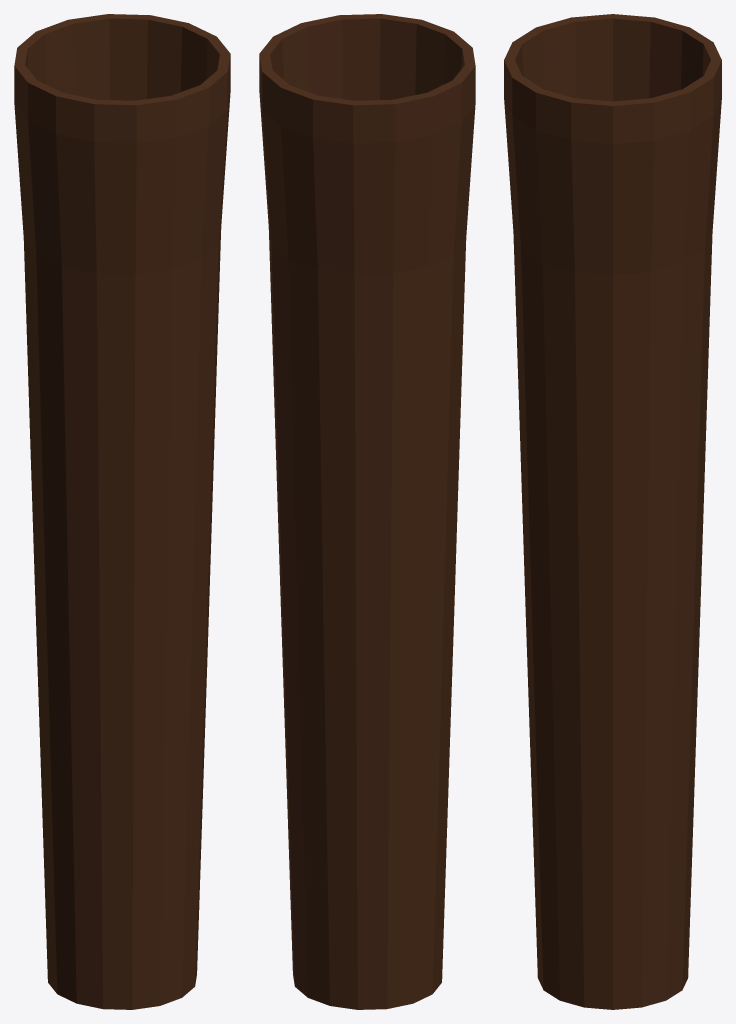
Rendered from GuardaGuardaChuva.fbx.
3 renders of one model, left to right at view 1: azimuth 30°, elevation 25°; view 2: azimuth 150°, elevation 25°; view 3: azimuth 270°, elevation 25°, orthographic.
Visible parts, largest first — view 1: Circle; view 2: Circle; view 3: Circle.
Boxes of the visible parts, left/top/right/bottom form: Circle: left=14, top=14, right=230, bottom=1009; Circle: left=259, top=14, right=475, bottom=1009; Circle: left=504, top=14, right=721, bottom=1009.
Size of the model in its own units: 14.5 by 67.41 by 14.5.
